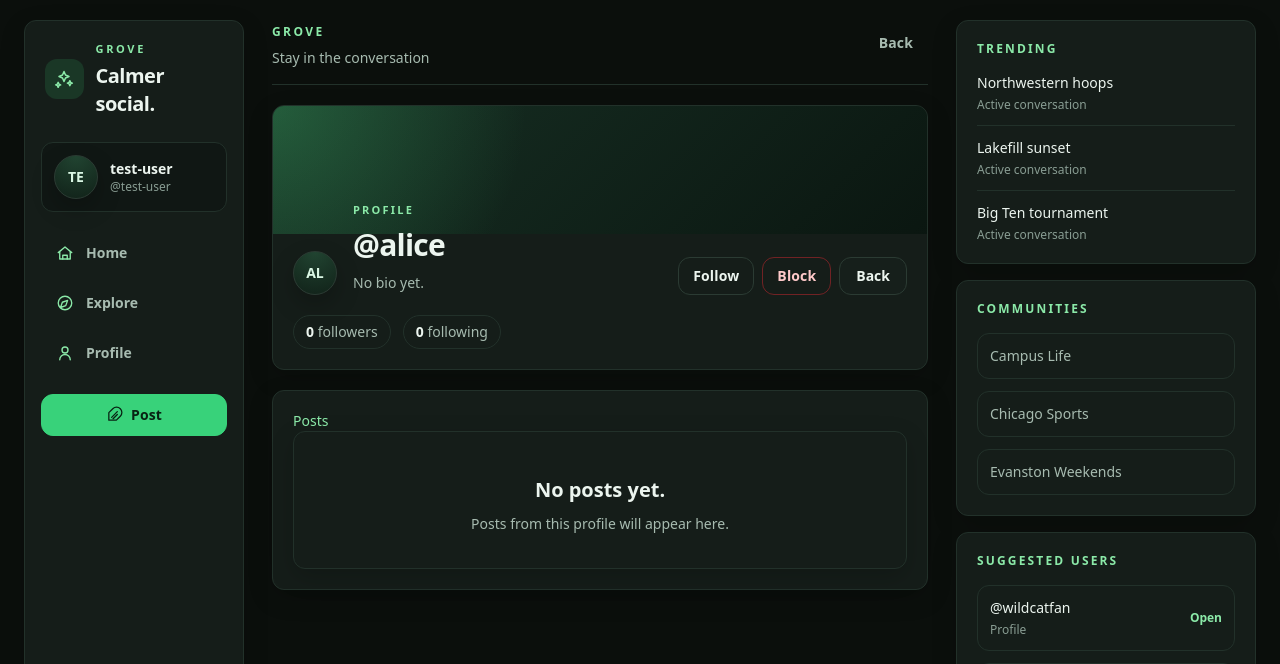
it: UserProfilePage › shows "Action not allowed" when block action returns 403
Click the button "Block" at (797, 276), box top-left (762, 256), bottom-right (831, 294)
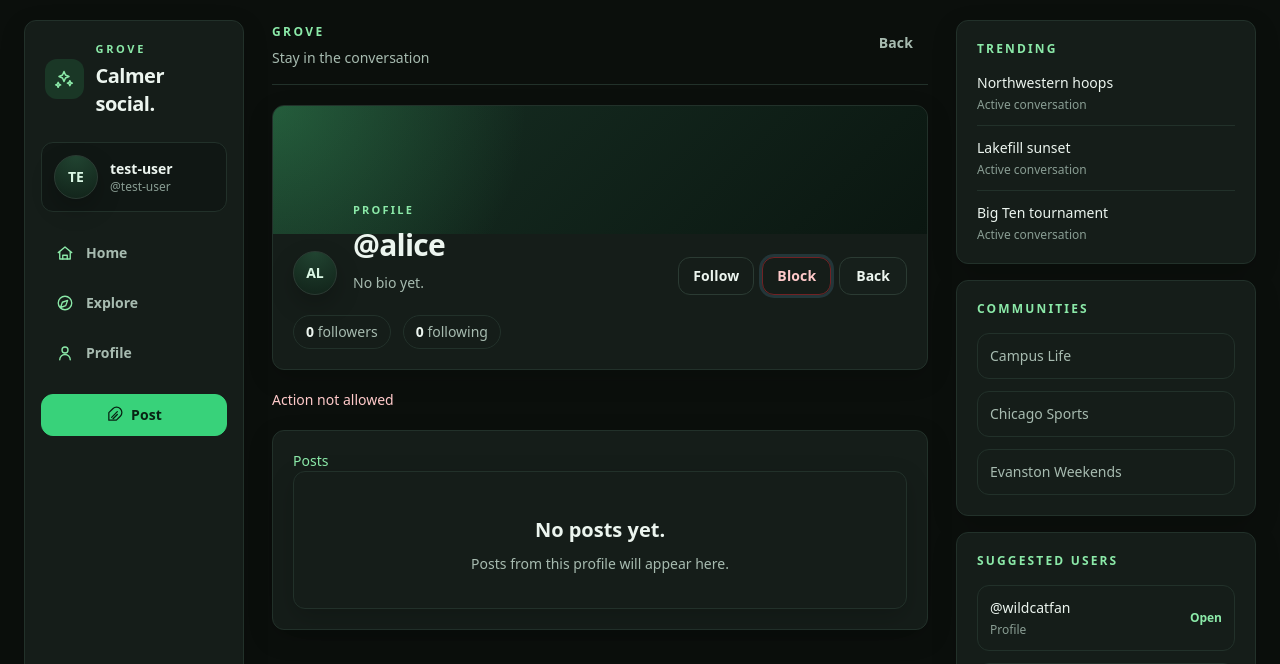
Expected: the message reads "Action not allowed", top-left (272, 390), bottom-right (394, 408)
